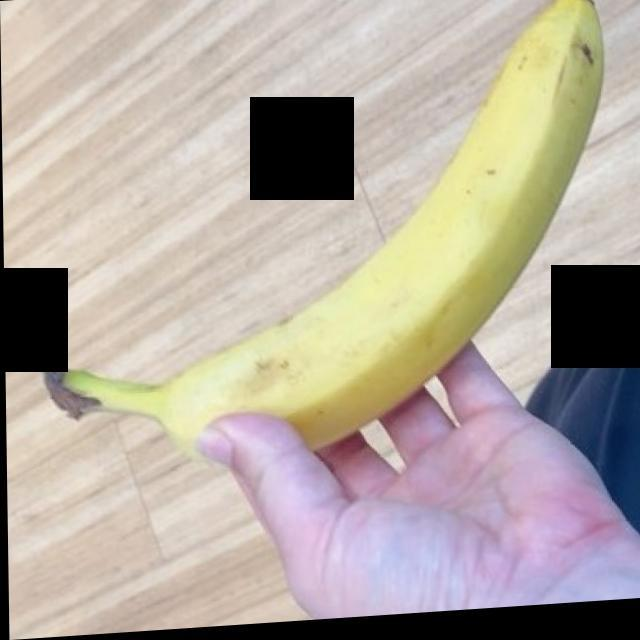banana: (56, 15, 599, 445)
